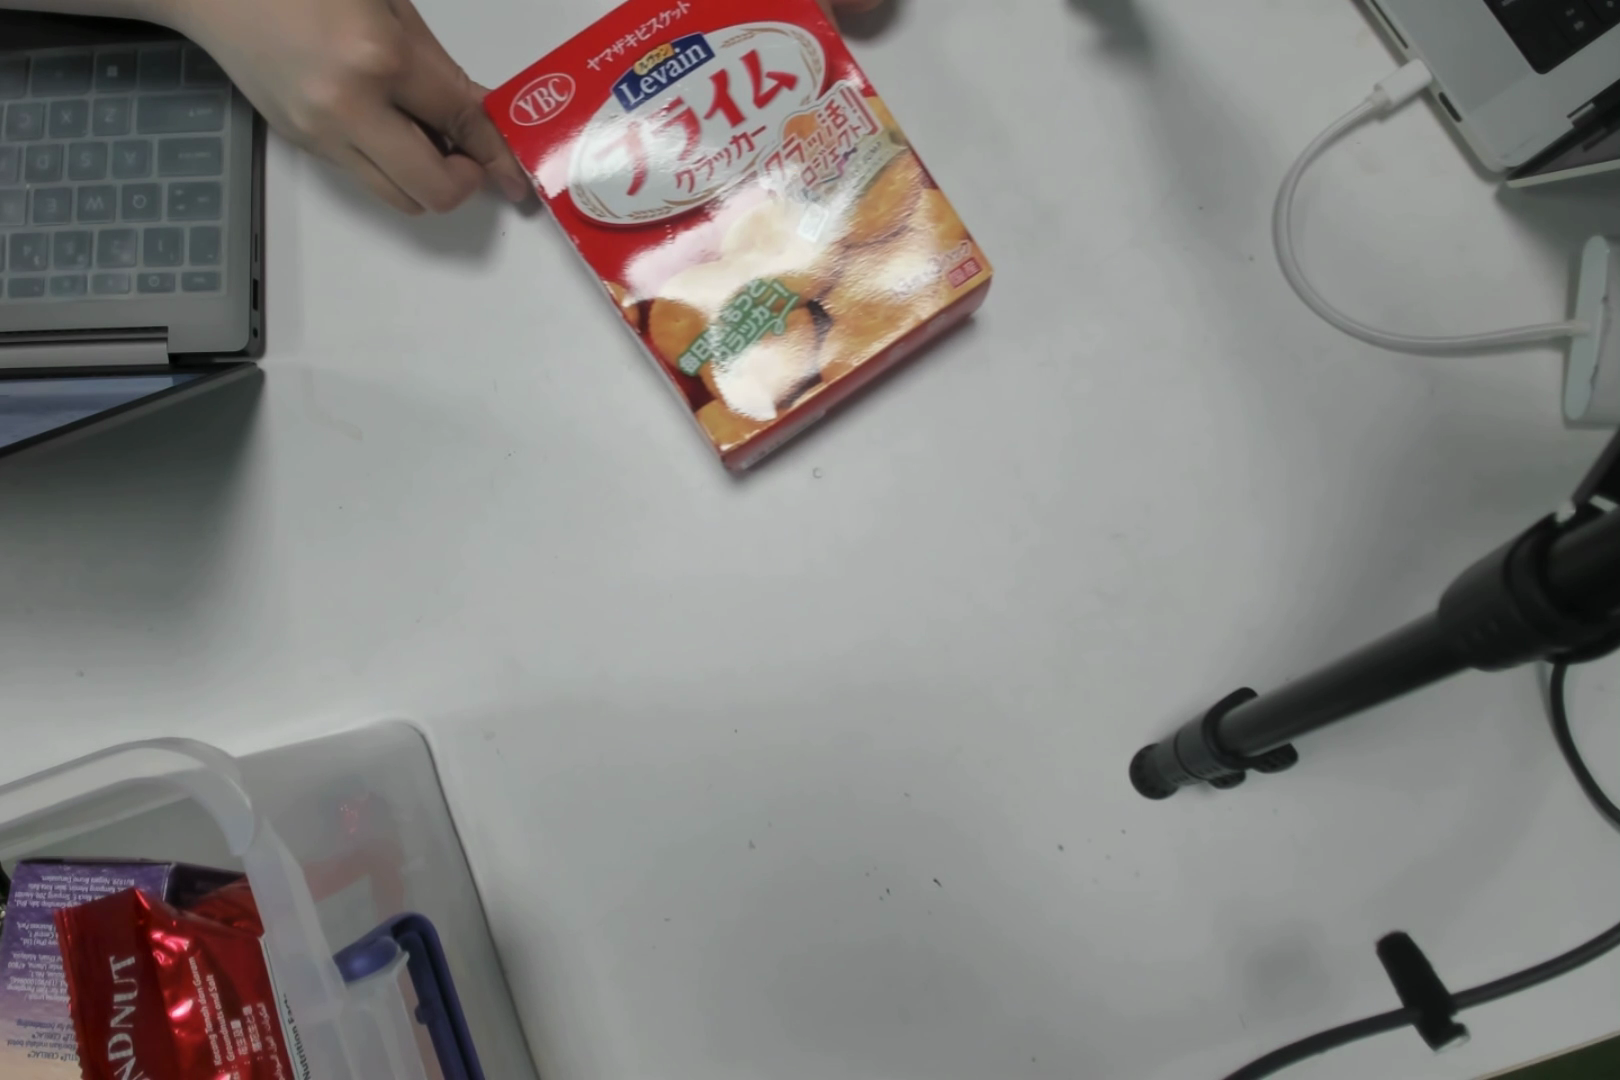c: (509, 8, 911, 436)
